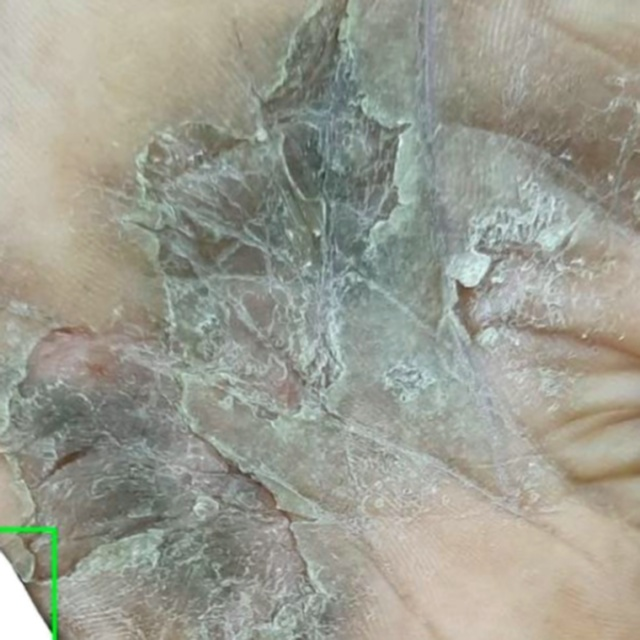Contact Dermatitis: (0, 529, 54, 639)
